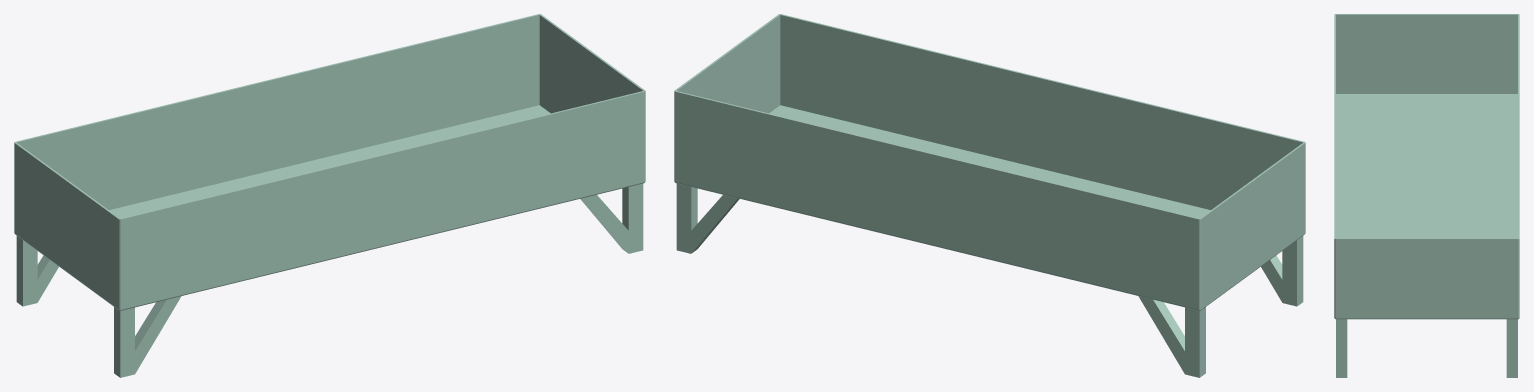
The model's file is SchneidgestelleVonWVS3D.dae.
3 renders of one model, left to right at view 1: azimuth 30°, elevation 25°; view 2: azimuth 150°, elevation 25°; view 3: azimuth 270°, elevation 25°, orthographic. The views are drawn at different scales.
Parts seen in each view (by area): view 1: node0; view 2: node0; view 3: node0.
Part boxes in pixels (<box>): node0: <box>14,14,645,377</box>; node0: <box>674,14,1305,377</box>; node0: <box>1334,14,1519,377</box>.
Bounding box in the file's own units: 2.87 × 1 × 0.83.
